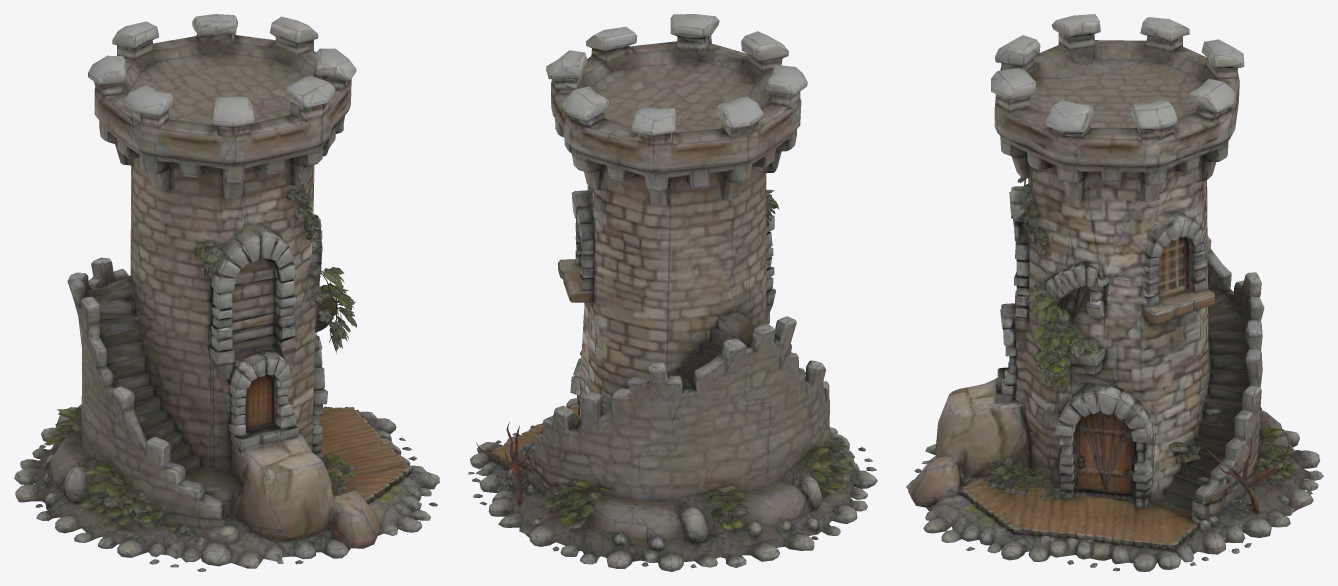
The model's file is keep.glb.
The picture shows the model from 3 angles, left to right: view 1: azimuth 30°, elevation 25°; view 2: azimuth 150°, elevation 25°; view 3: azimuth 270°, elevation 25°; orthographic projection.
Parts seen in each view (by area): view 1: Object_4; view 2: Object_4; view 3: Object_4.
Boxes of the visible parts, box(x1,y1,x2,y2) form: Object_4: box(14, 14, 439, 571); Object_4: box(468, 14, 877, 571); Object_4: box(906, 14, 1323, 571).
Bounding box in the file's own units: 0.8808 × 0.998 × 0.8925.
1 material, 1 textured.
